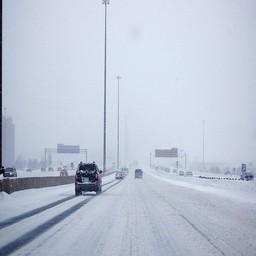Snow: (8, 170, 255, 255), (0, 192, 96, 249), (143, 168, 255, 202), (0, 182, 75, 222), (0, 170, 60, 179), (102, 180, 121, 190), (103, 173, 116, 184), (67, 171, 76, 175)
